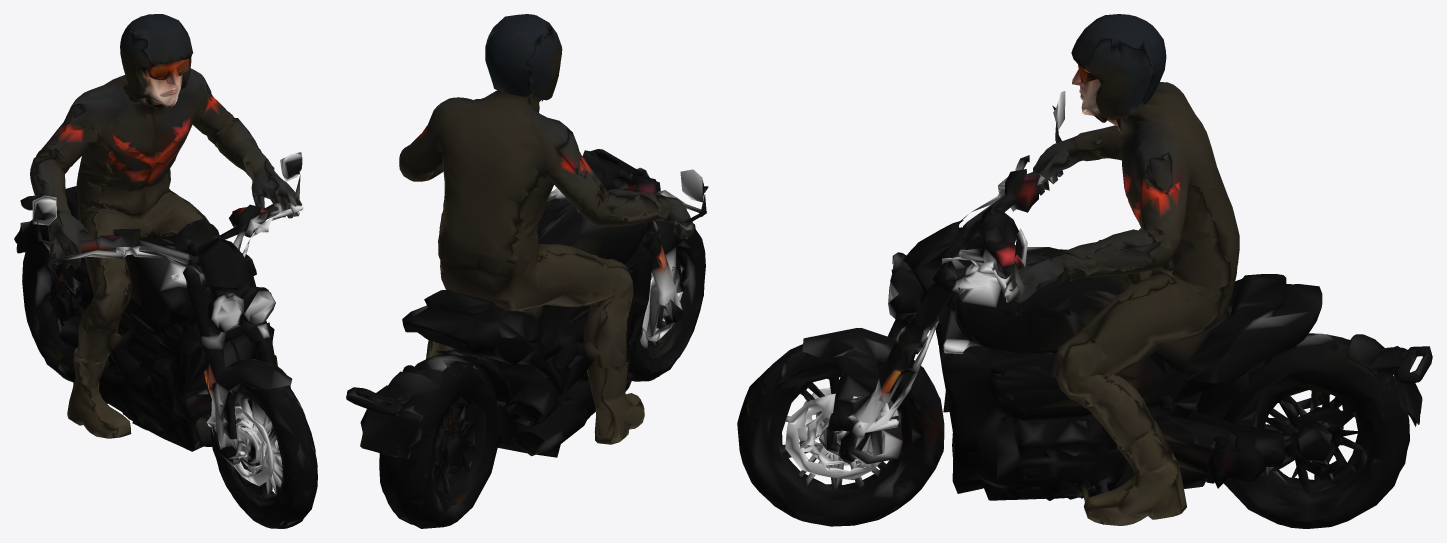
The model's file is rider_knievel.glb.
3 renders of one model, left to right at view 1: azimuth 30°, elevation 25°; view 2: azimuth 150°, elevation 25°; view 3: azimuth 270°, elevation 25°, orthographic. The views are drawn at different scales.
Visible parts, largest first — view 1: rider_knievel; view 2: rider_knievel; view 3: rider_knievel.
Part boxes in pixels (x1,y1,x2,y2): rider_knievel: (14, 14, 317, 528); rider_knievel: (346, 14, 708, 528); rider_knievel: (737, 14, 1432, 528).
Size of the model in its own units: 0.9829 by 1.55 by 1.92.
